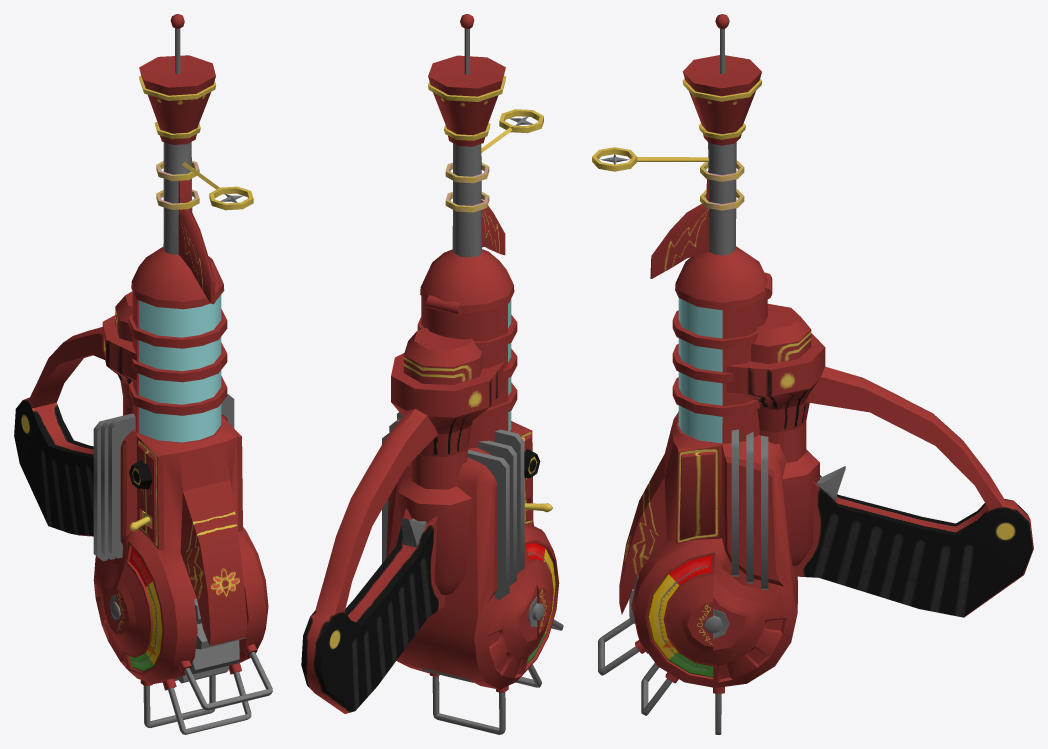
File: Ray Gun.fbx
The picture shows the model from 3 angles, left to right: view 1: azimuth 30°, elevation 25°; view 2: azimuth 150°, elevation 25°; view 3: azimuth 270°, elevation 25°; orthographic projection.
Visible parts, largest first — view 1: Cube.006; view 2: Cube.006; view 3: Cube.006.
Boxes of the visible parts, x1,y1,x2,y2 form: Cube.006: (14, 14, 272, 734); Cube.006: (301, 14, 563, 734); Cube.006: (592, 14, 1033, 734).
Size of the model in its own units: 0.0628 by 0.2994 by 0.1699.
